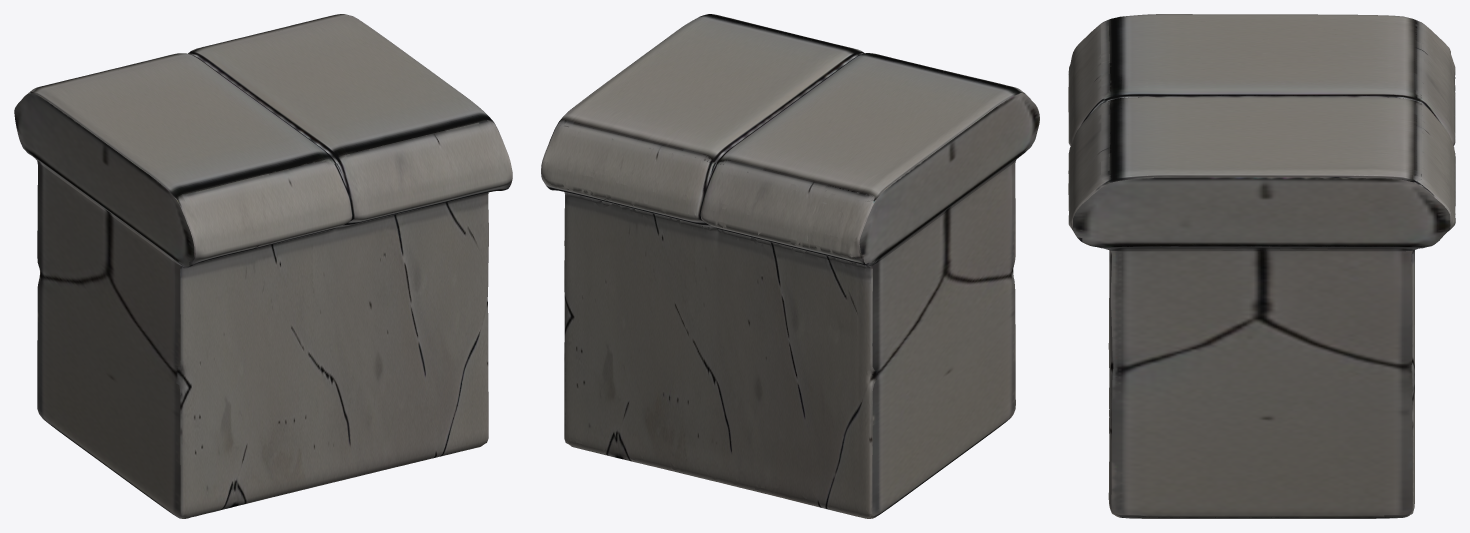
The model's file is roof-parapet.glb.
3 renders of one model, left to right at view 1: azimuth 30°, elevation 25°; view 2: azimuth 150°, elevation 25°; view 3: azimuth 270°, elevation 25°, orthographic. The views are drawn at different scales.
Visible parts, largest first — view 1: tmp83jzo1wq.ply; view 2: tmp83jzo1wq.ply; view 3: tmp83jzo1wq.ply.
Boxes of the visible parts, x1=… form: tmp83jzo1wq.ply: x1=14, y1=14, x2=512, y2=518; tmp83jzo1wq.ply: x1=541, y1=14, x2=1039, y2=518; tmp83jzo1wq.ply: x1=1068, y1=14, x2=1455, y2=518.
Bounding box in the file's own units: 1 × 1 × 1.
Materials: 1 (1 with a texture image).
